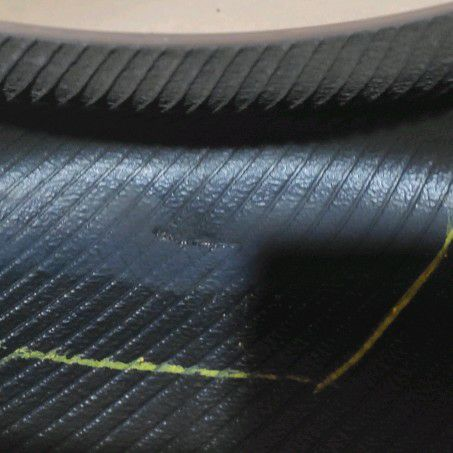CBU: (132, 213, 248, 256)
